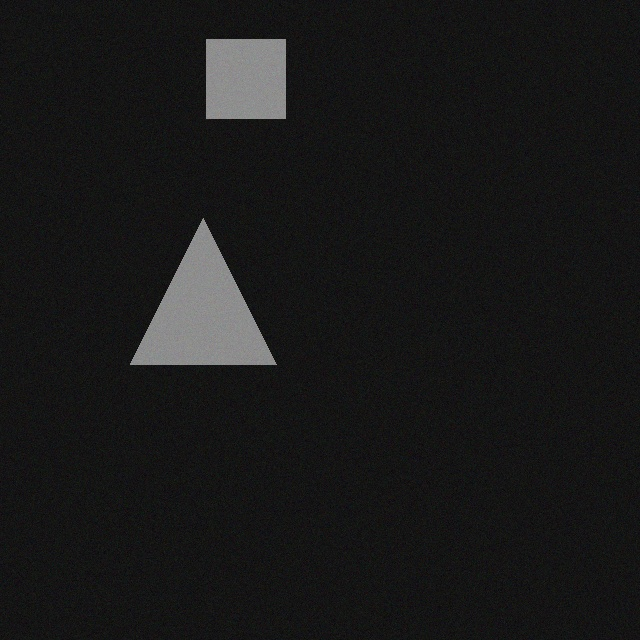square: (196, 28, 275, 107)
triangle: (120, 207, 266, 353)
